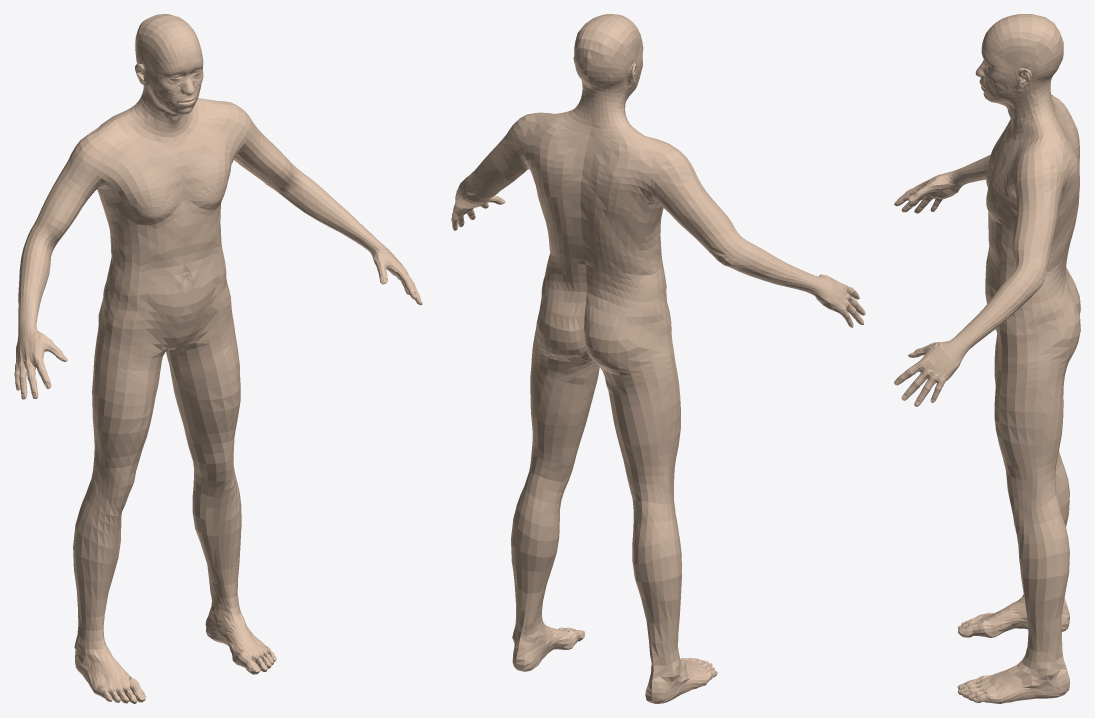
Rendered from male-mature-average-strong.glb.
3 views of the same model, side by side, from view 1: azimuth 30°, elevation 25°; view 2: azimuth 150°, elevation 25°; view 3: azimuth 270°, elevation 25° (orthographic).
Visible parts, largest first — view 1: world; view 2: world; view 3: world.
Part boxes in pixels (x1,y1,x2,y2): world: (14,14,422,703); world: (451,14,865,703); world: (894,14,1080,703).
Bounding box in the file's own units: 1.25 × 1.94 × 0.5068.
